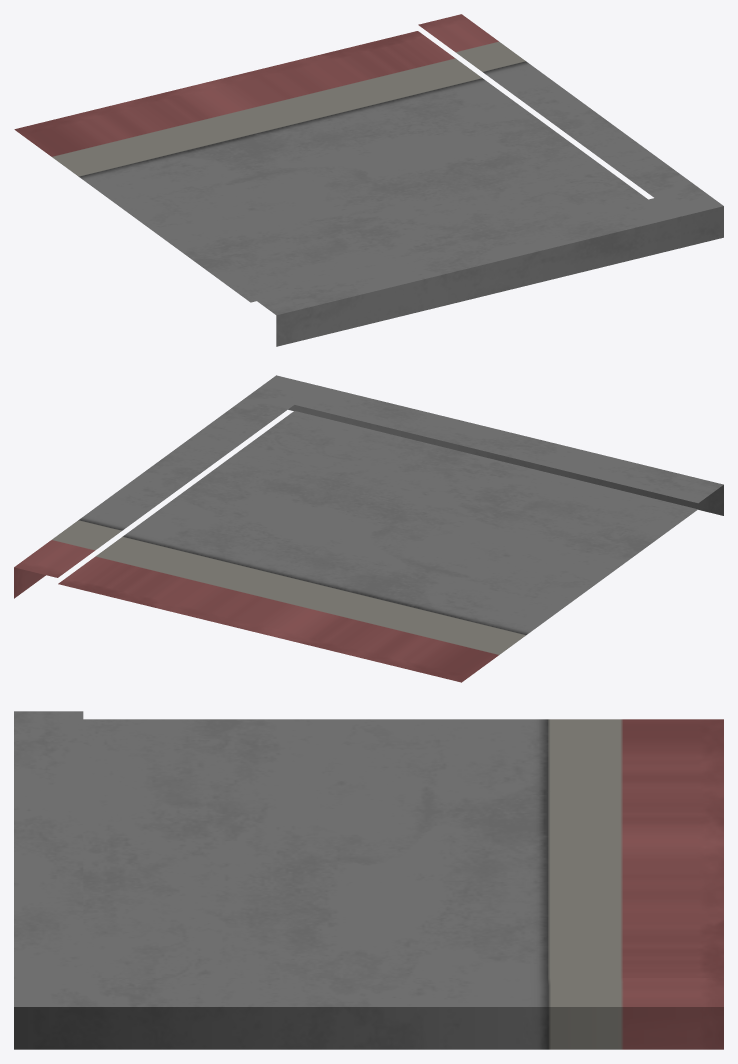
Rendered from pavement2.fbx.
The picture shows the model from 3 angles, top to bottom: view 1: azimuth 30°, elevation 25°; view 2: azimuth 150°, elevation 25°; view 3: azimuth 270°, elevation 25°; orthographic projection. The views are drawn at different scales.
Parts seen in each view (by area): view 1: 4; view 2: 4; view 3: 4.
Boxes of the visible parts, x1,y1,x2,y2 form: 4: (14, 14, 723, 346); 4: (14, 375, 723, 682); 4: (14, 711, 723, 1049).
Size of the model in its own units: 830 by 55.86 by 842.
